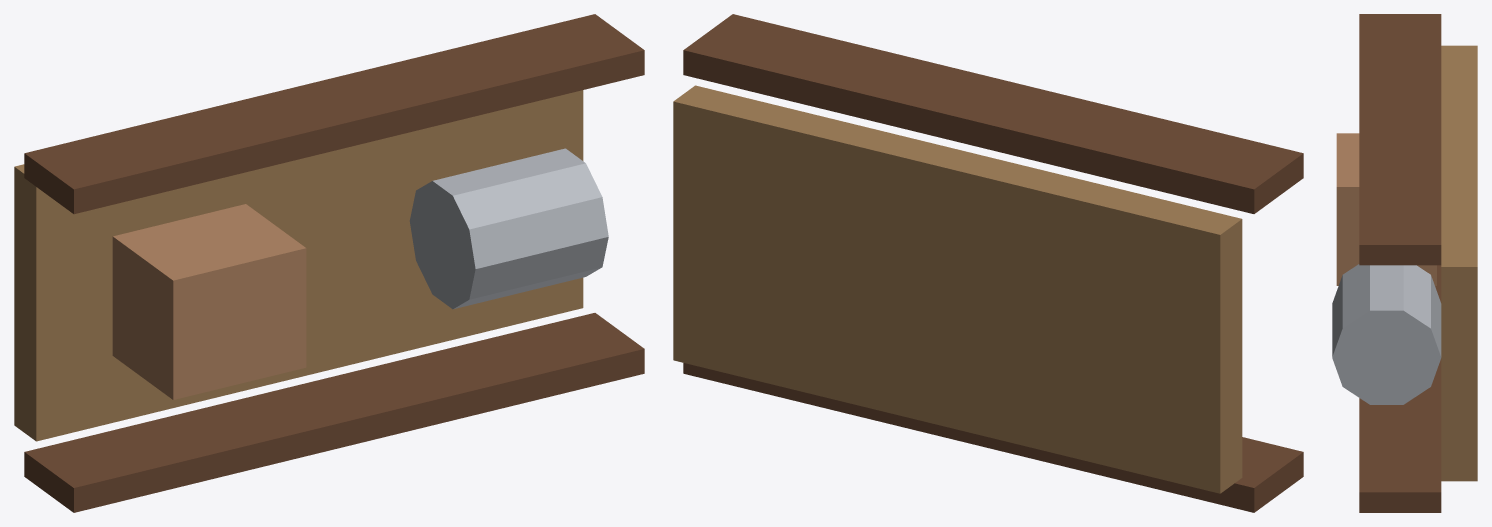
File: 08_skyship_deck.glb
3 views of the same model, side by side, from view 1: azimuth 30°, elevation 25°; view 2: azimuth 150°, elevation 25°; view 3: azimuth 270°, elevation 25° (orthographic). The views are drawn at different scales.
Visible parts, largest first — view 1: deck_insert, rail_right, rail_left, cargo_crate, winch; view 2: deck_insert, rail_right, rail_left; view 3: rail_right, deck_insert, winch, rail_left, cargo_crate.
Part boxes in pixels (x1,y1,x2,y2): deck_insert: (14, 90, 583, 441); rail_right: (24, 14, 644, 214); rail_left: (24, 313, 644, 512); cargo_crate: (112, 204, 306, 399); winch: (409, 148, 608, 309); deck_insert: (673, 85, 1242, 493); rail_right: (683, 14, 1303, 213); rail_left: (683, 363, 1303, 512); rail_right: (1359, 14, 1441, 265); deck_insert: (1441, 45, 1477, 481); winch: (1332, 264, 1441, 404); rail_left: (1359, 265, 1441, 512); cargo_crate: (1336, 133, 1436, 285).
Bounding box in the file's own units: 1.8 × 0.975 × 0.48.
